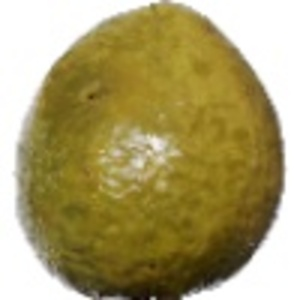goiaba: (15, 8, 294, 297)
